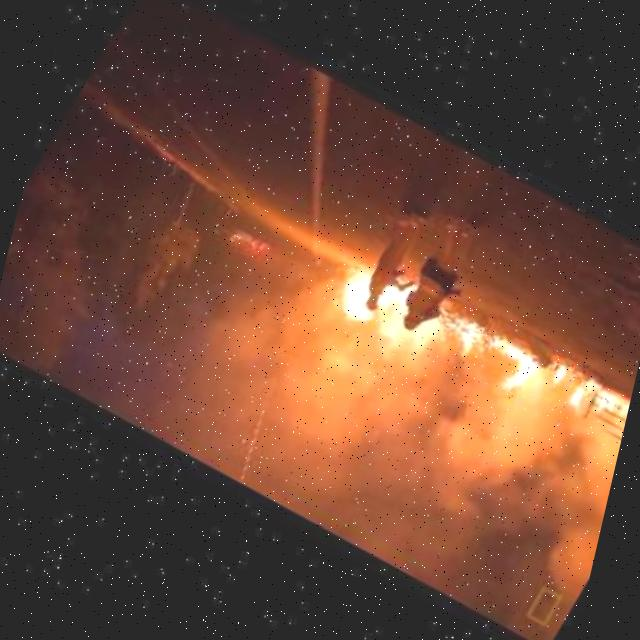fire: (306, 250, 450, 379), (414, 304, 543, 398), (536, 357, 568, 387)
